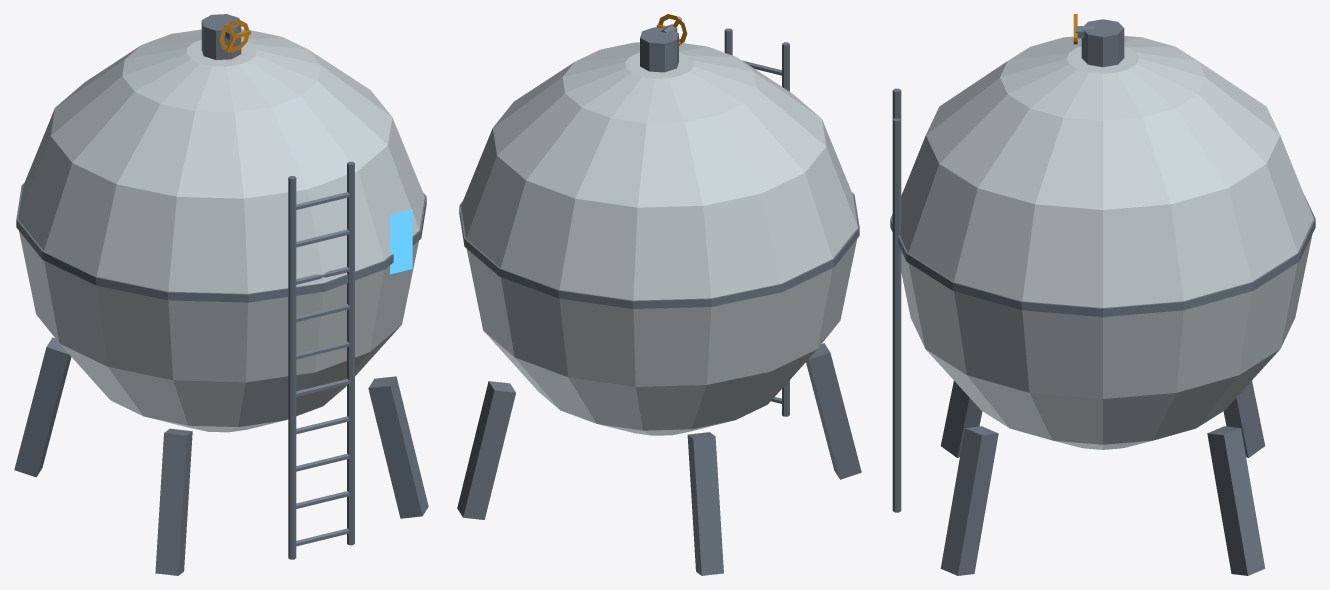
The model's file is fus_deuterium_cryo_tank.glb.
3 views of the same model, side by side, from view 1: azimuth 30°, elevation 25°; view 2: azimuth 150°, elevation 25°; view 3: azimuth 270°, elevation 25° (orthographic). The views are drawn at different scales.
Parts seen in each view (by area): view 1: spherical_cryo_vessel, equatorial_seam, temperature_window, valve_wheel; view 2: spherical_cryo_vessel, equatorial_seam; view 3: spherical_cryo_vessel, equatorial_seam.
Part boxes in pixels (<box>): spherical_cryo_vessel: <box>18,29,424,432</box>; equatorial_seam: <box>14,14,428,575</box>; temperature_window: <box>390,209,412,274</box>; valve_wheel: <box>219,19,250,52</box>; spherical_cryo_vessel: <box>461,42,857,435</box>; equatorial_seam: <box>457,24,861,575</box>; spherical_cryo_vessel: <box>892,36,1313,449</box>; equatorial_seam: <box>890,19,1315,575</box>.
Size of the model in its own units: 2.8 by 3.6 by 2.8.
